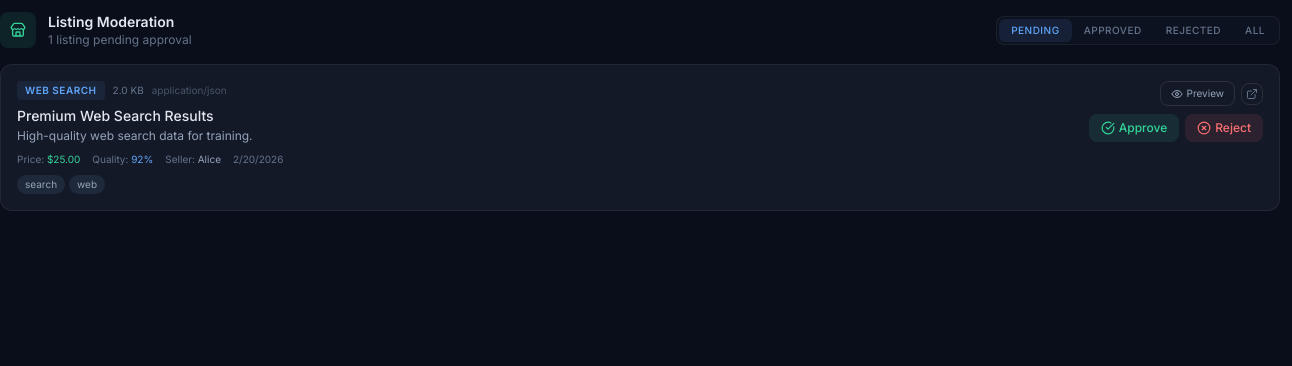
Test: ListingModeration › content preview shows listing details when Preview is clicked
Expected: the text "Content Preview" is not shown
Click the button "Preview".
click(1197, 94)  # box [1160,81,1235,106]
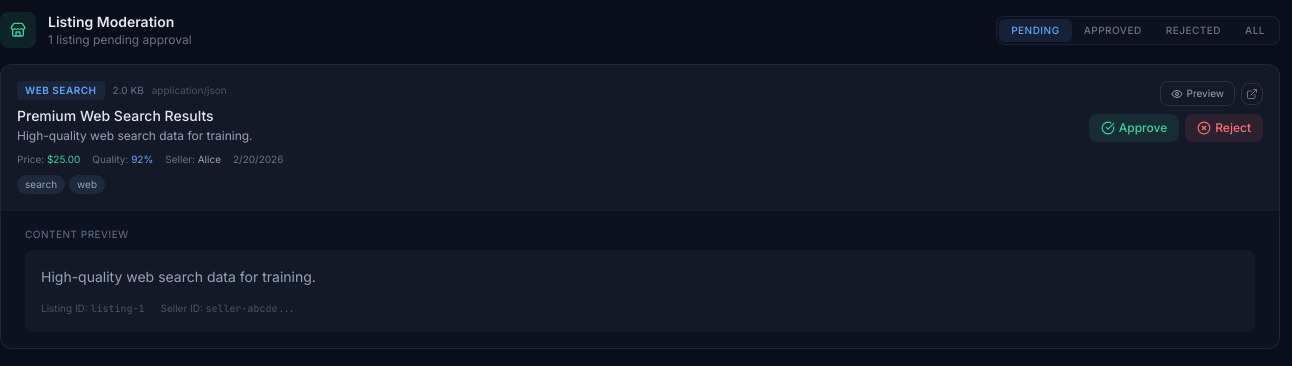
Result: the text "Content Preview" is shown at [25,228,128,240]
Result: the text "seller-abcde..." is shown at [206,302,296,315]
